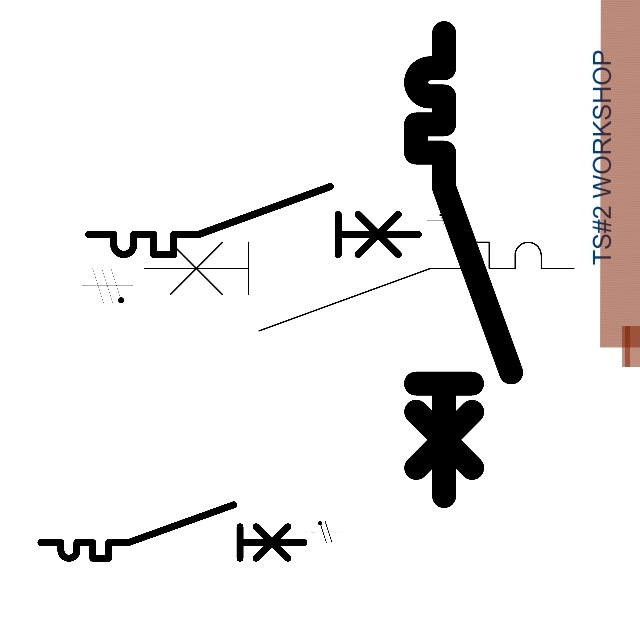interruptor_termomagnetico: (404, 21, 523, 507), (133, 231, 585, 341), (80, 178, 427, 263), (34, 498, 310, 565)
